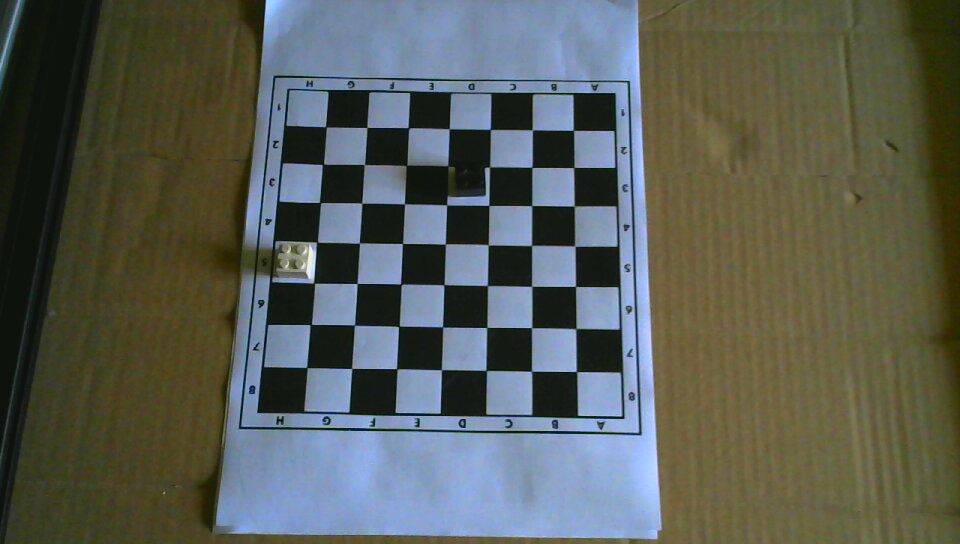bp: (453, 164, 487, 198)
wp: (274, 242, 314, 280)
